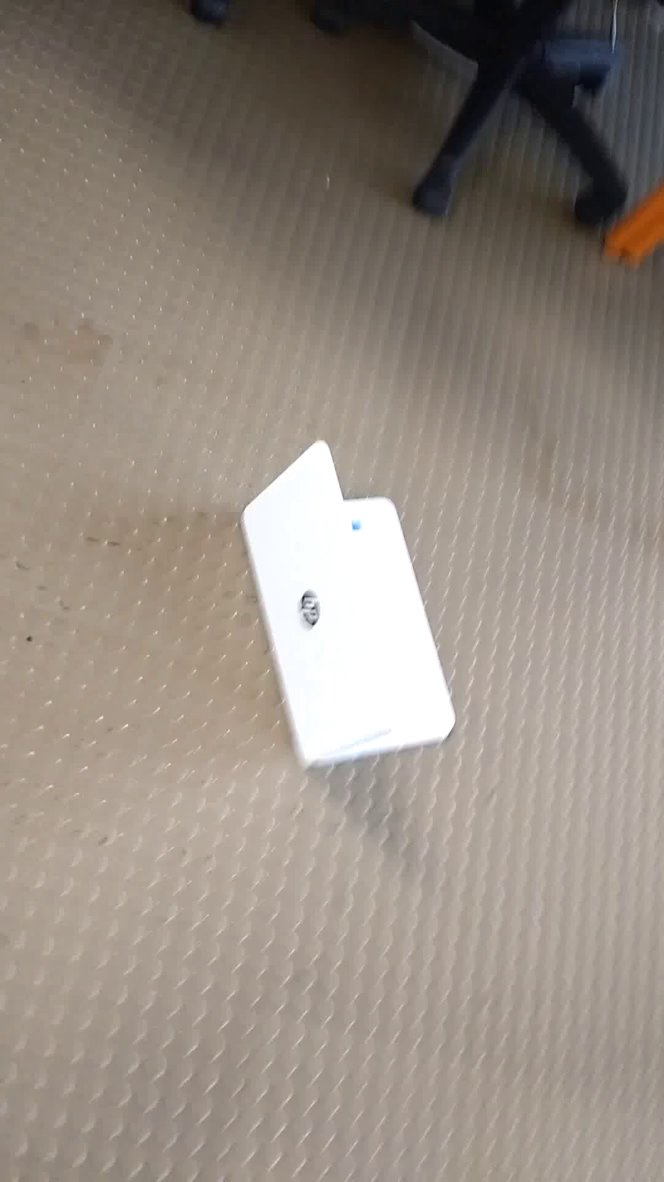laptop: (238, 426, 466, 778)
